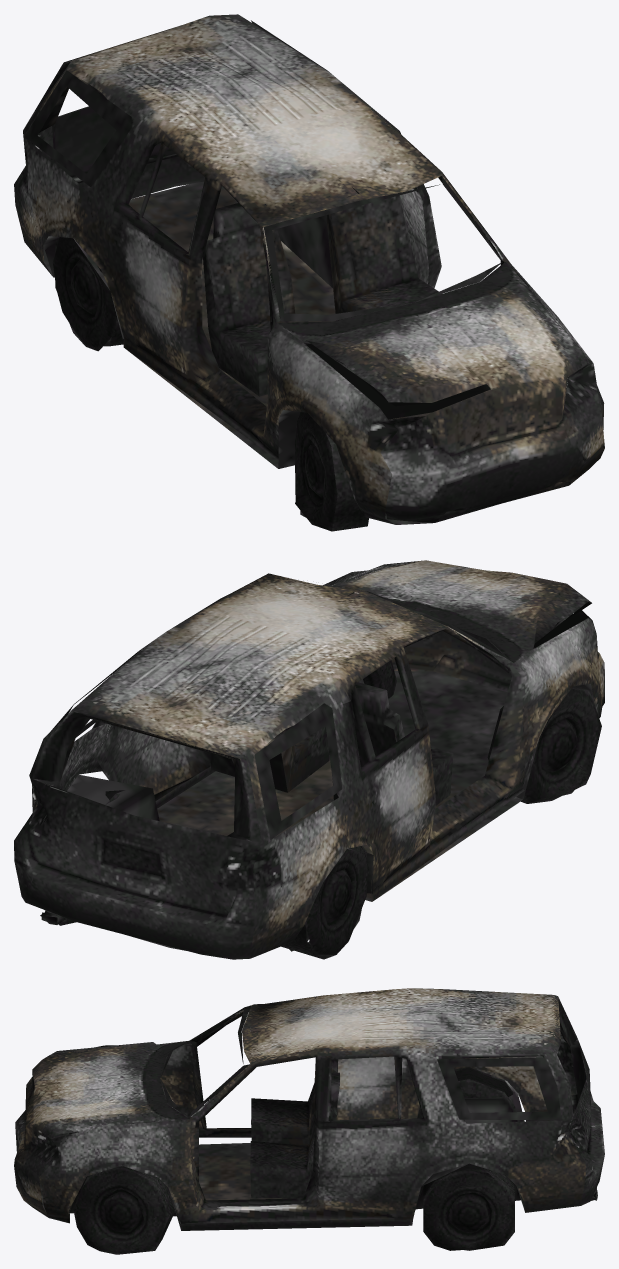
File: damaged car 4.FBX
3 renders of one model, top to bottom at view 1: azimuth 30°, elevation 25°; view 2: azimuth 150°, elevation 25°; view 3: azimuth 270°, elevation 25°, orthographic. The views are drawn at different scales.
Parts seen in each view (by area): view 1: Mesh_0795; view 2: Mesh_0795; view 3: Mesh_0795.
Part boxes in pixels (box(x1,y1,x2,y2)): Mesh_0795: box(14, 14, 604, 531); Mesh_0795: box(14, 560, 604, 959); Mesh_0795: box(14, 988, 604, 1254).
Bounding box in the file's own units: 197 × 171 × 480.
